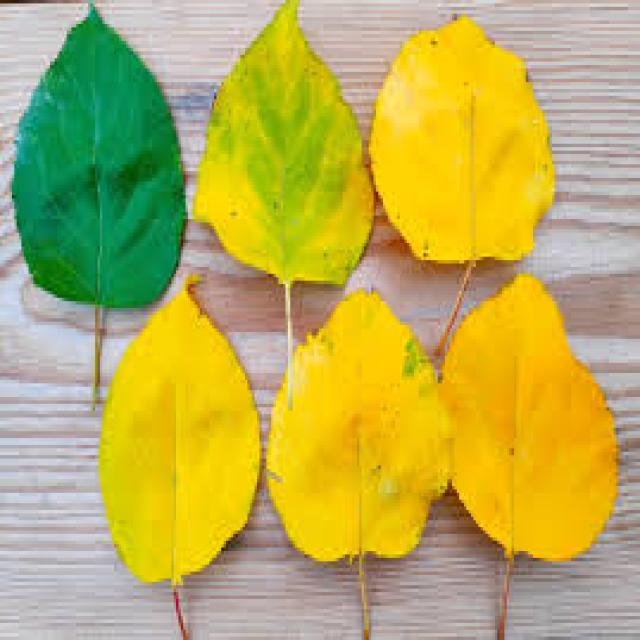yaprak: (443, 278, 625, 639), (266, 299, 452, 637), (86, 288, 264, 636), (21, 9, 184, 389), (382, 22, 544, 260), (205, 12, 359, 259)
